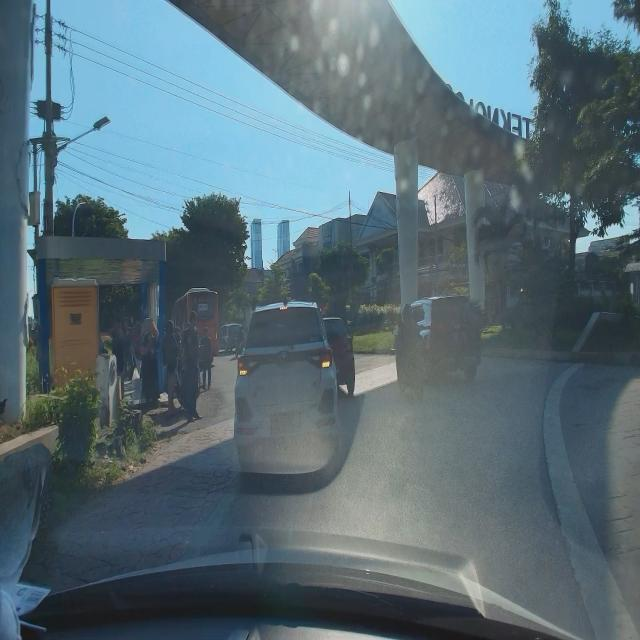car: (233, 292, 340, 476)
